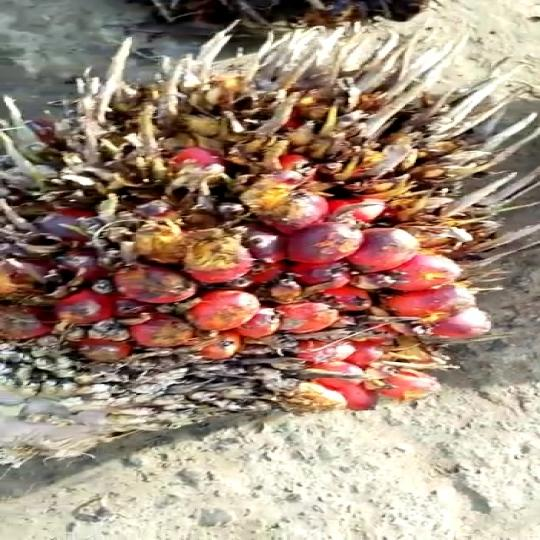terlalu masak: (0, 19, 540, 471)
